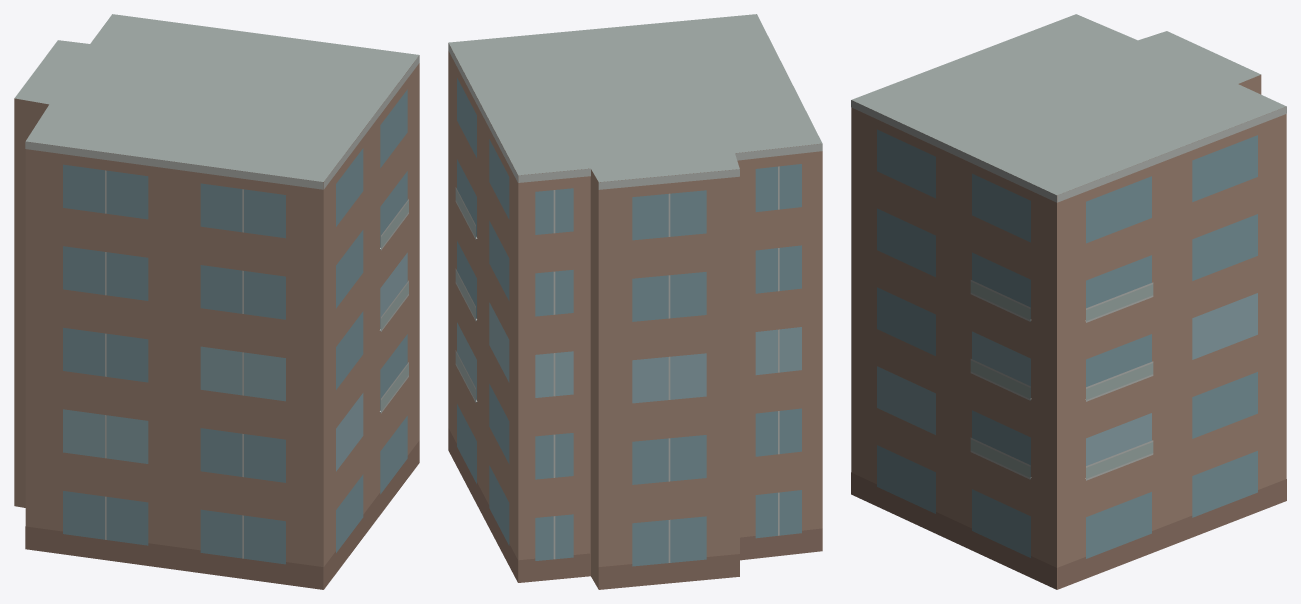
Rendered from survey-upis-32718076.glb.
3 renders of one model, left to right at view 1: azimuth 30°, elevation 25°; view 2: azimuth 150°, elevation 25°; view 3: azimuth 270°, elevation 25°, orthographic. The views are drawn at different scales.
Visible parts, largest first — view 1: survey-upis-32718076.tmp; view 2: survey-upis-32718076.tmp; view 3: survey-upis-32718076.tmp.
Part boxes in pixels (bbox=[...]): survey-upis-32718076.tmp: bbox=[14, 14, 419, 589]; survey-upis-32718076.tmp: bbox=[448, 14, 822, 589]; survey-upis-32718076.tmp: bbox=[851, 14, 1286, 589].
Size of the model in its own units: 12.83 by 13 by 13.01.
